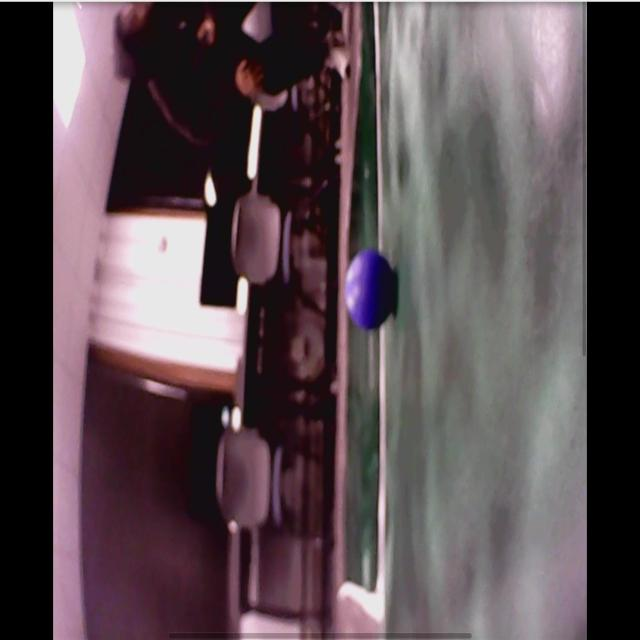ball: (344, 254, 396, 333)
